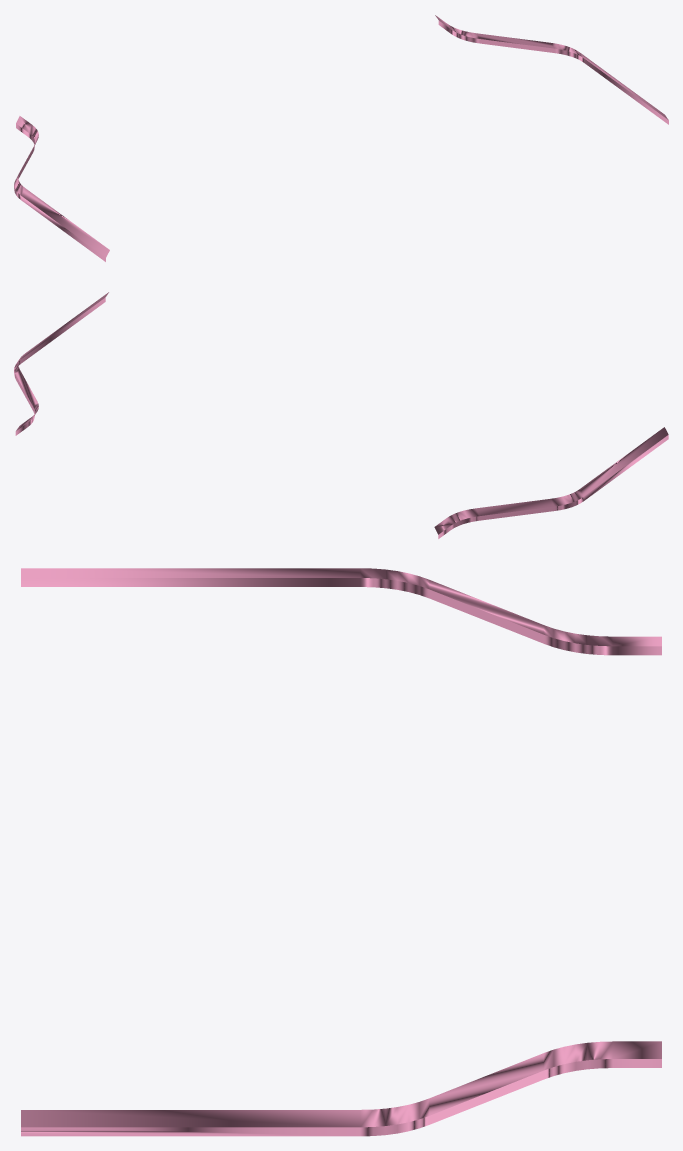
The model's file is plate_transition_a_trim_railing_a.glb.
3 renders of one model, top to bottom at view 1: azimuth 30°, elevation 25°; view 2: azimuth 150°, elevation 25°; view 3: azimuth 270°, elevation 25°, orthographic. The views are drawn at different scales.
Size of the model in its own units: 65 by 1.25 by 32.04.
